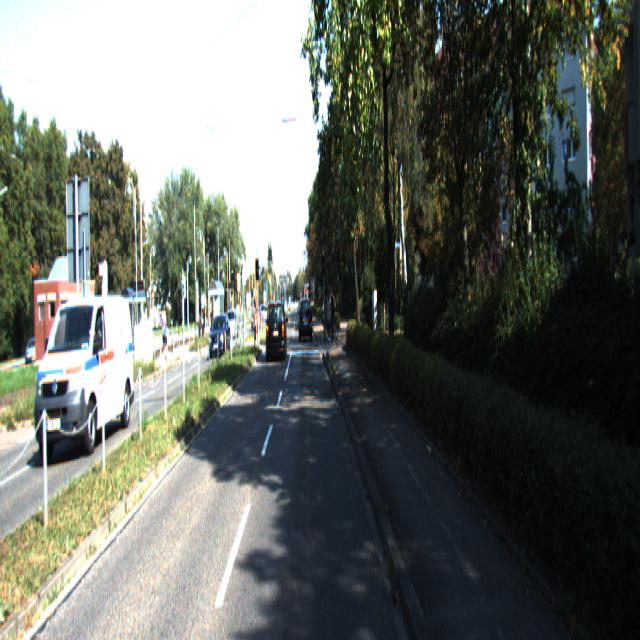Car: (266, 302, 288, 365), (209, 316, 231, 362), (299, 299, 313, 345)
DontCare: (320, 277, 342, 345), (160, 306, 169, 379), (250, 294, 266, 332), (23, 334, 38, 363)
Van: (34, 290, 137, 457)
